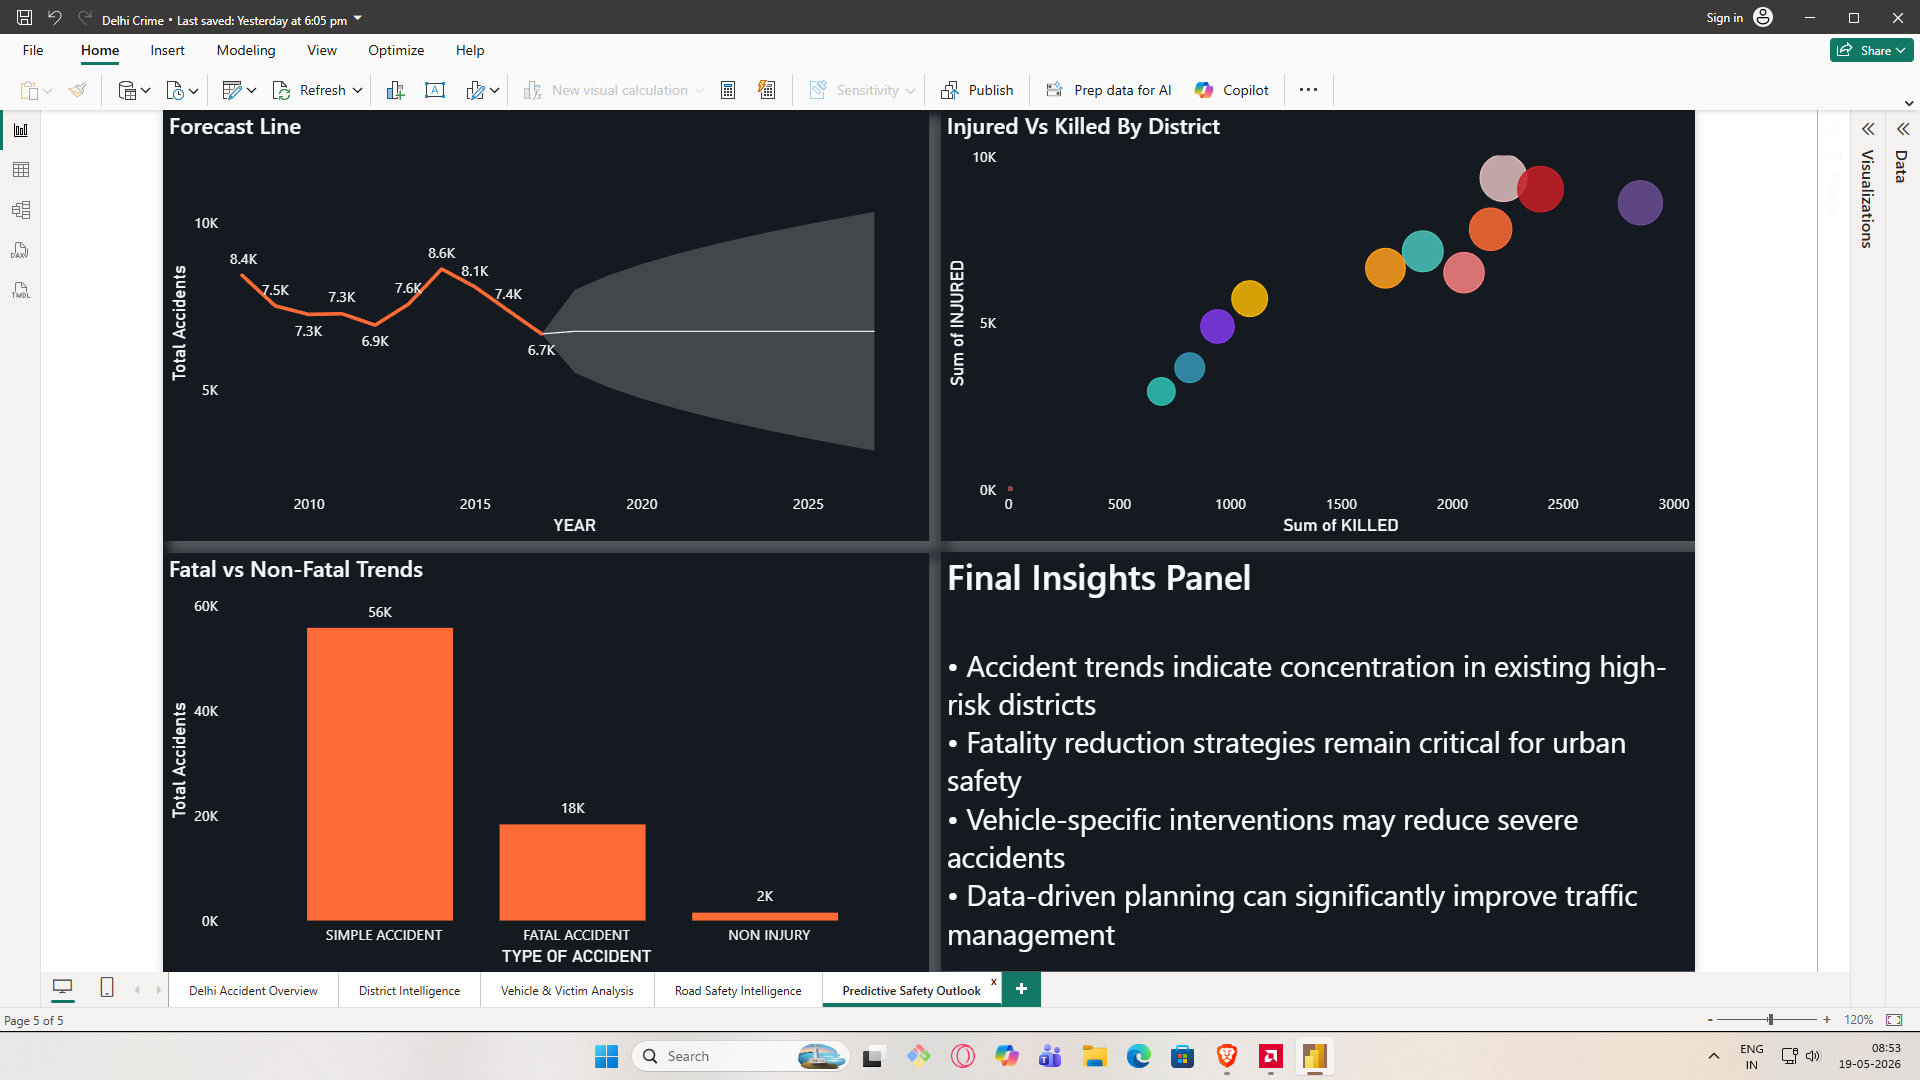

Layout of this report page (visuals, bound fields, positions):
{"tool":"powerbi","page":{"name":"Predictive Safety Outlook","canvas":[1280,720],"ordinal":4},"visuals":[{"type":"lineChart","title":"Forecast Line","fields":{"Y":["Data.Total Accidents"],"Category":["Data.YEAR"]},"box":[0,0,640,359.9],"z":0},{"type":"clusteredColumnChart","title":"Fatal vs Non-Fatal Trends","fields":{"Category":["Data.TYPE OF ACCIDENT"],"Y":["Data.Total Accidents"]},"box":[0,370,640,350],"z":1000},{"type":"scatterChart","title":"Injured Vs Killed By District ","fields":{"X":["Sum(Data.KILLED)"],"Y":["Sum(Data.INJURED)"],"Category":["Data.DISTRICT"],"Size":["Data.Total Accidents"],"Series":["Data.DISTRICT"]},"box":[650,0,630,360],"z":2000},{"type":"textbox","title":"Final Insights Panel","box":[649.7,369.6,630.3,350.2],"z":3000}]}

Visuals, with their boxes on the page's 1280x720 design canvas (x1, y1, x2, y2). These are canvas units, not pixel positions in the 1920x1080 screenshot, which may show the page scaled, cropped or inside an application window:
"Forecast Line" lineChart: <bbox>0, 0, 640, 360</bbox>
"Fatal vs Non-Fatal Trends" clusteredColumnChart: <bbox>0, 370, 640, 720</bbox>
"Injured Vs Killed By District " scatterChart: <bbox>650, 0, 1280, 360</bbox>
"Final Insights Panel" textbox: <bbox>650, 370, 1280, 720</bbox>
